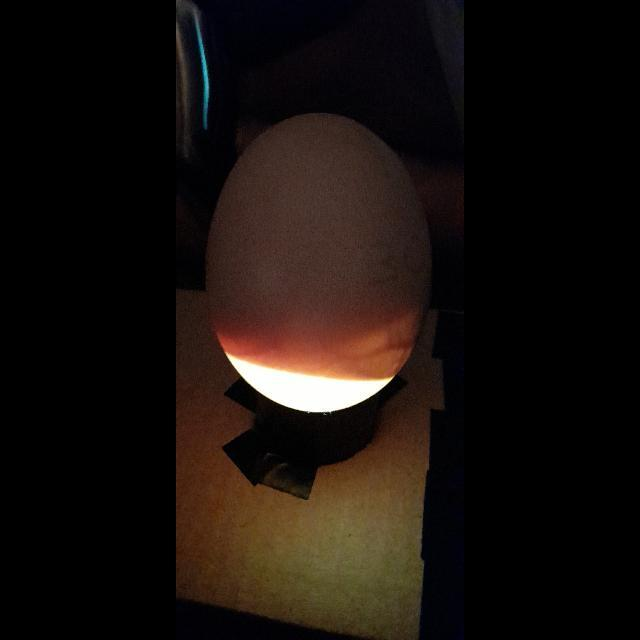Fertile: (209, 104, 419, 416)
